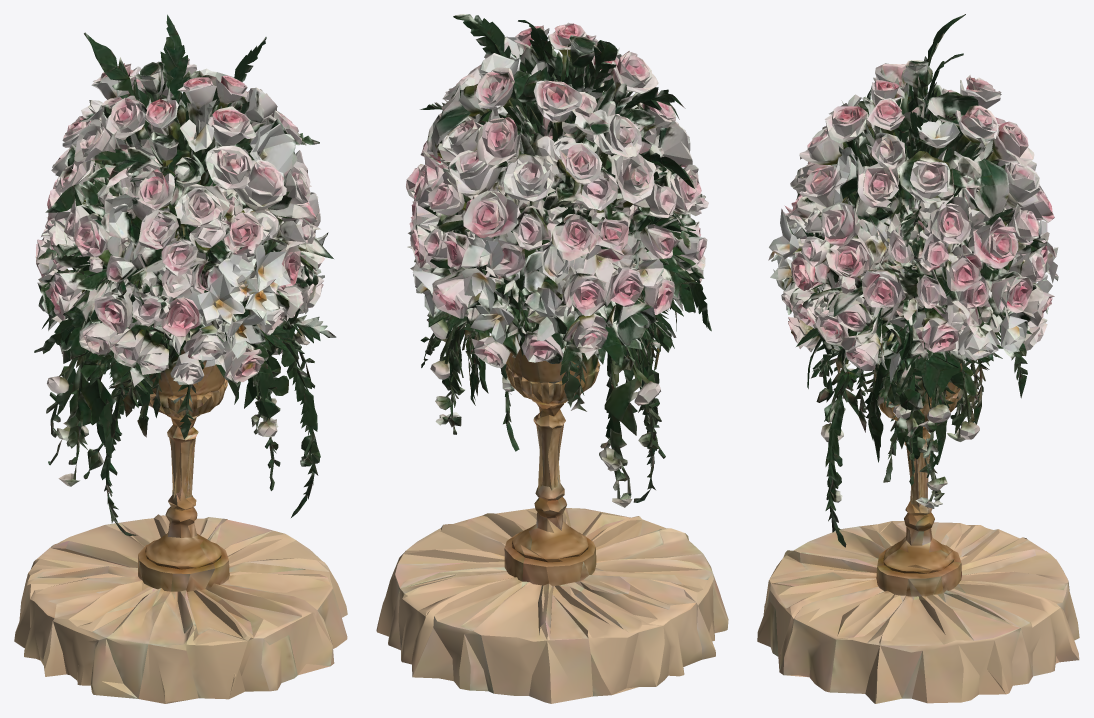
File: vestFloral.glb
The picture shows the model from 3 angles, left to right: view 1: azimuth 30°, elevation 25°; view 2: azimuth 150°, elevation 25°; view 3: azimuth 270°, elevation 25°; orthographic projection. The views are drawn at different scales.
Size of the model in its own units: 0.976 by 1.9 by 0.9453.
Materials: 1 (1 with a texture image).
